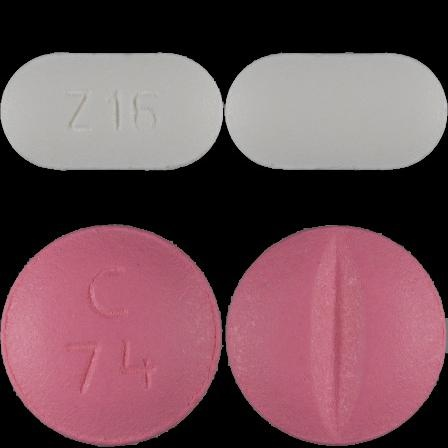68788-6445: (0, 0, 224, 224)
